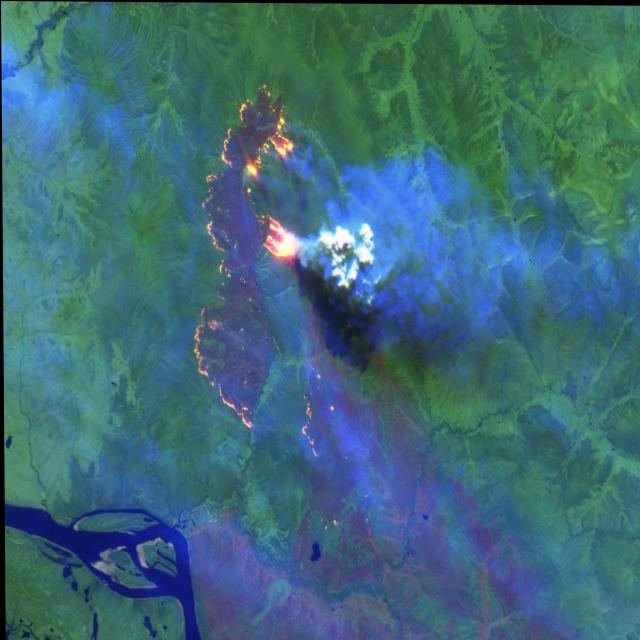fire: (184, 77, 328, 461)
